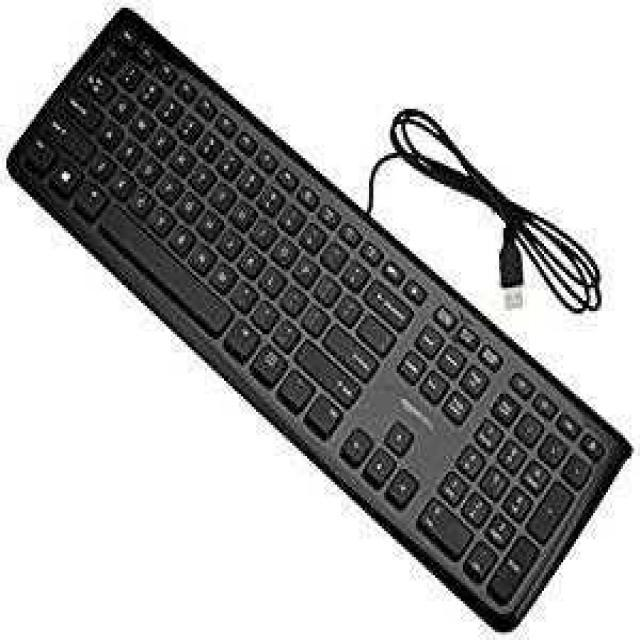keyboard: (5, 4, 633, 637)
